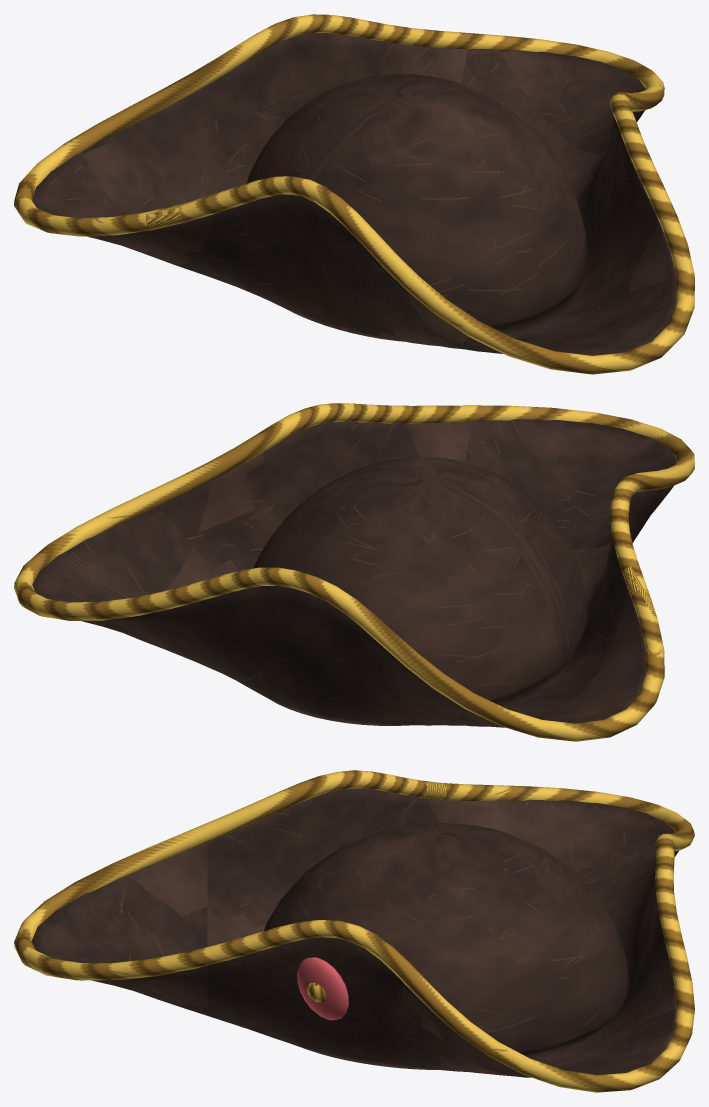
Rendered from hat_pirate.glb.
3 views of the same model, one above another, from view 1: azimuth 30°, elevation 25°; view 2: azimuth 150°, elevation 25°; view 3: azimuth 270°, elevation 25° (orthographic). The views are drawn at different scales.
Visible parts, largest first — view 1: hat_pirate; view 2: hat_pirate; view 3: hat_pirate.
Boxes of the visible parts, bbox=[...] form: hat_pirate: bbox=[14, 14, 694, 374]; hat_pirate: bbox=[14, 403, 694, 741]; hat_pirate: bbox=[14, 770, 694, 1092].
Bounding box in the file's own units: 0.4214 × 0.1244 × 0.4174.
Materials: 3 (2 with a texture image).
